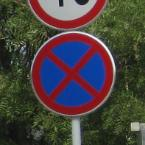No Parking: (33, 33, 116, 117)
